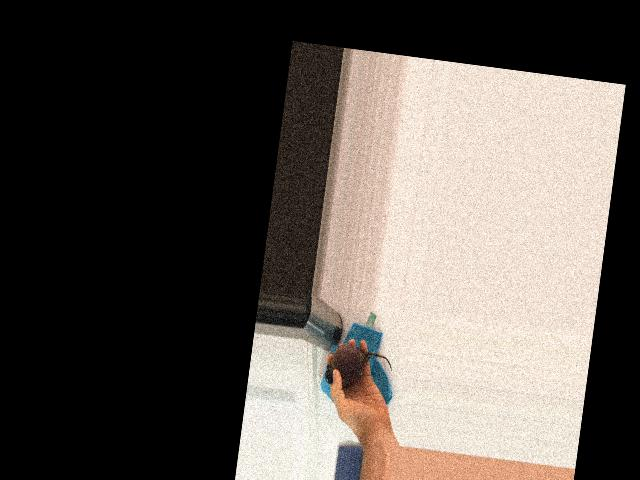beet: (323, 341, 394, 395)
